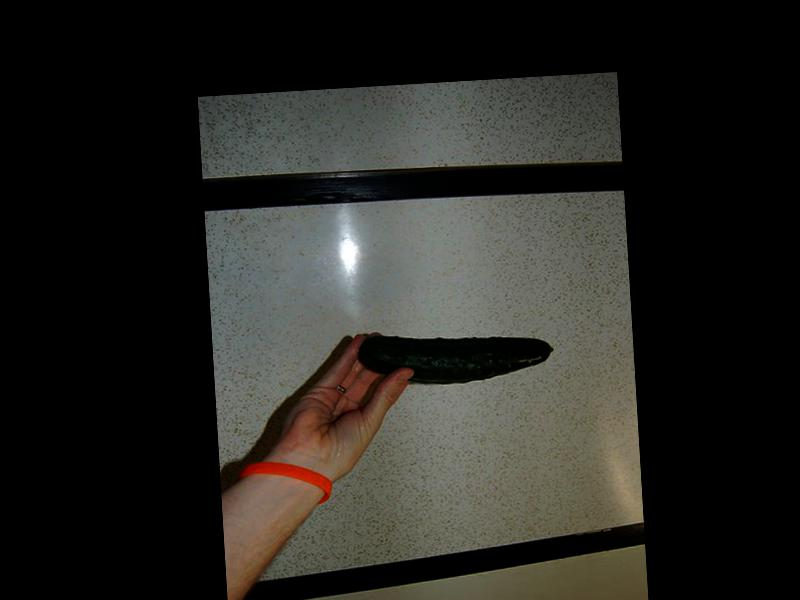Cucumber: (357, 325, 556, 387)
